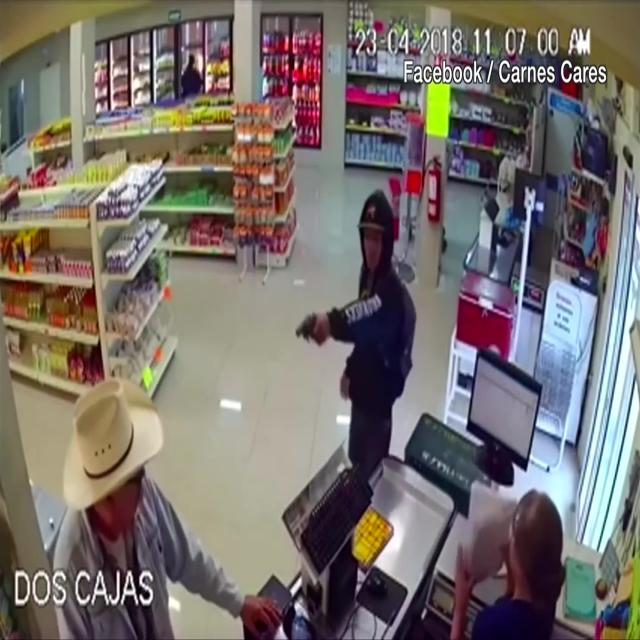Weapon: (279, 295, 325, 355)
